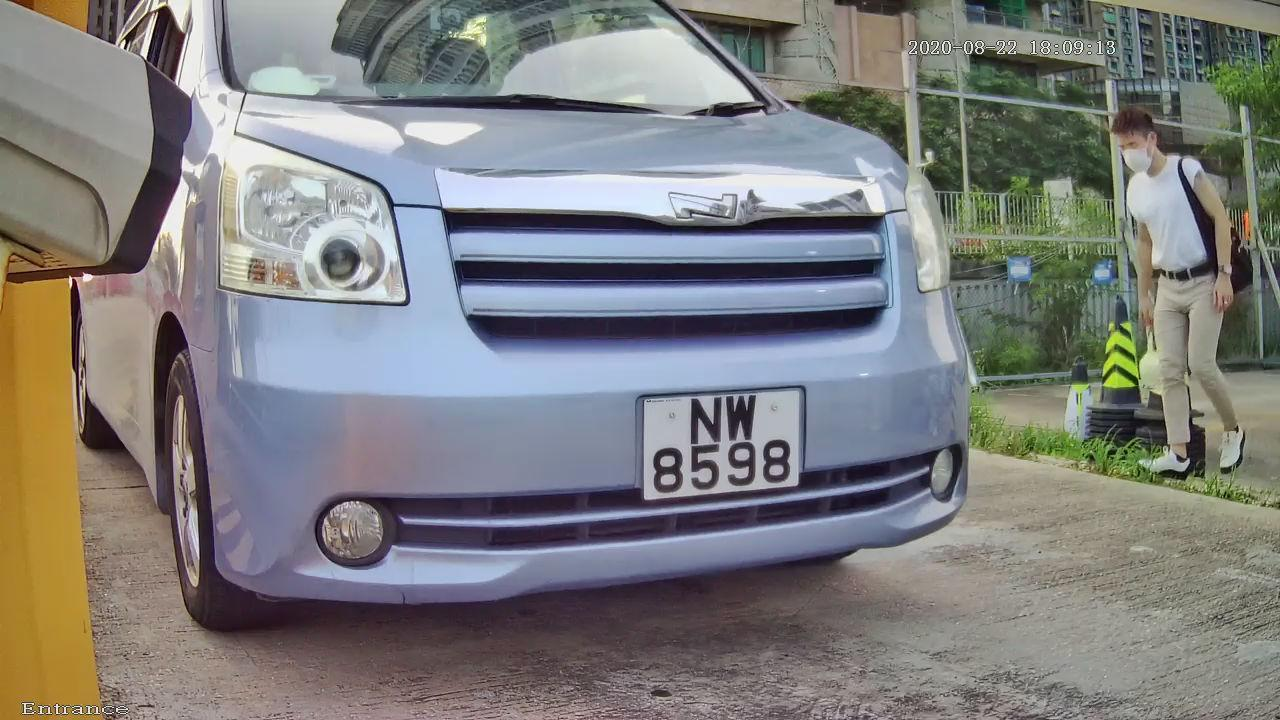Car: (63, 1, 1058, 656)
License Plate: (623, 380, 818, 518)
